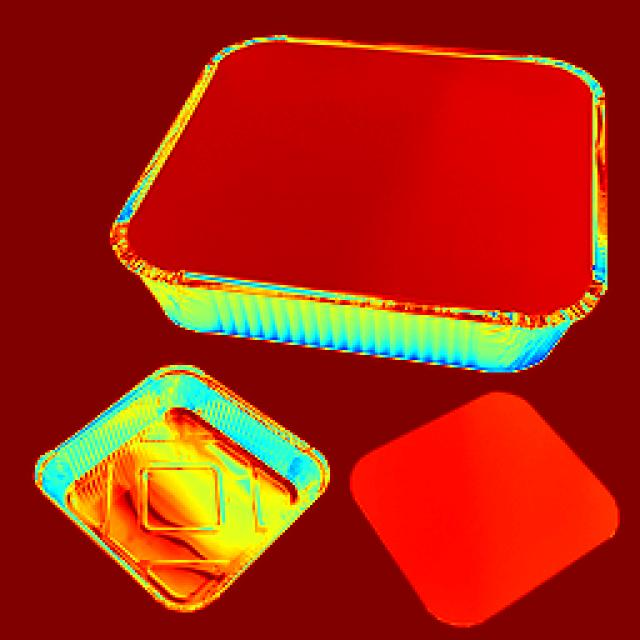Aluminium Food Cans: (137, 26, 582, 360), (39, 370, 288, 595)
